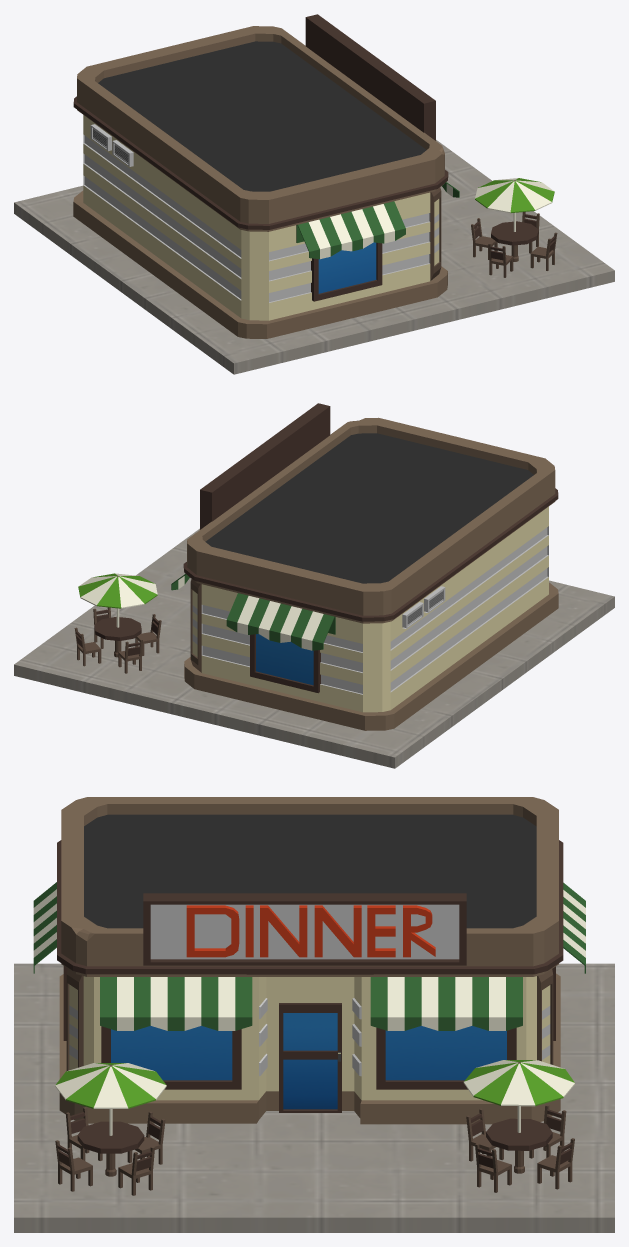
File: Coffee_House_01.fbx
3 renders of one model, top to bottom at view 1: azimuth 30°, elevation 25°; view 2: azimuth 150°, elevation 25°; view 3: azimuth 270°, elevation 25°, orthographic. The views are drawn at different scales.
Parts seen in each view (by area): view 1: Coffee_House_01; view 2: Coffee_House_01; view 3: Coffee_House_01.
Boxes of the visible parts, left/top/right/bottom form: Coffee_House_01: left=14, top=14, right=614, bottom=374; Coffee_House_01: left=14, top=403, right=614, bottom=768; Coffee_House_01: left=14, top=797, right=614, bottom=1232.
Size of the model in its own units: 1800 by 805 by 1800.
